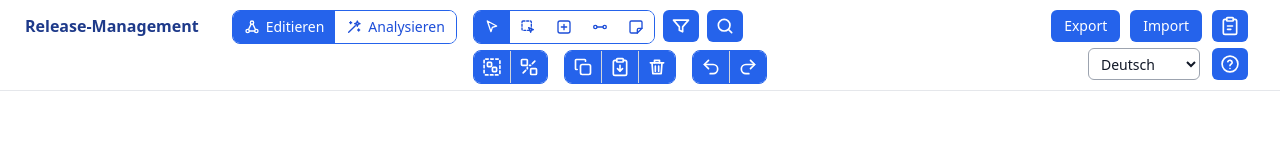
Test case: Toolbar › icons and tooltips › also explains the text buttons
Hover over the button "Export" at coordinates (1086, 26), box [1051,10,1120,42]
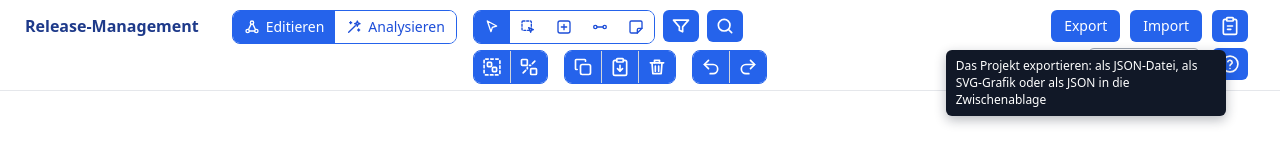
expect the tooltip shows "JSON": met, box [956,57,1198,108]
